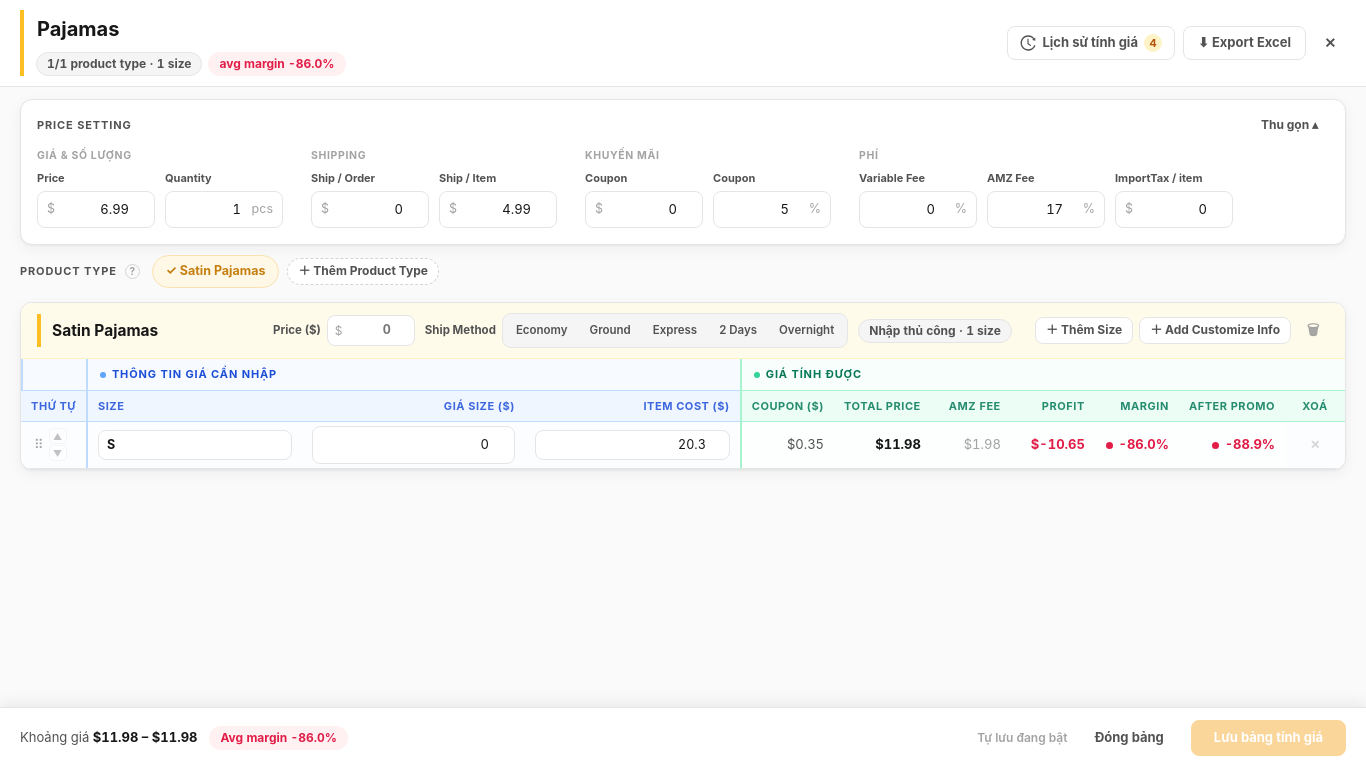
it: tự lưu lên server › sửa xong là tự lưu, và lượt ghi mang cờ autosave
Replace the text in the field named "Tên bảng tính giá" with "Pajamas v2" at [190, 29], box [28,10,352,48]
Wait 3000 ms
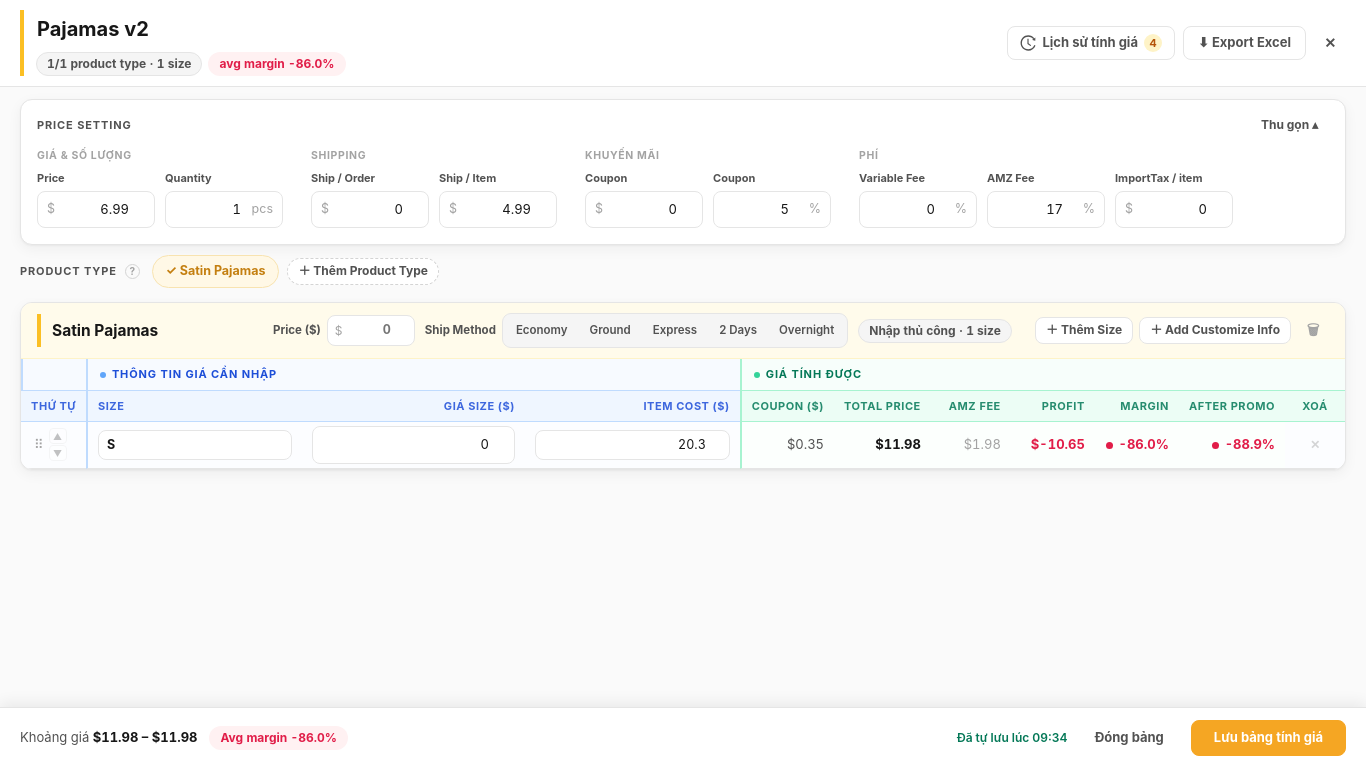
Now the message with test id "autosave-status" shows "Đã tự lưu lúc", box [957,730,1067,745]
